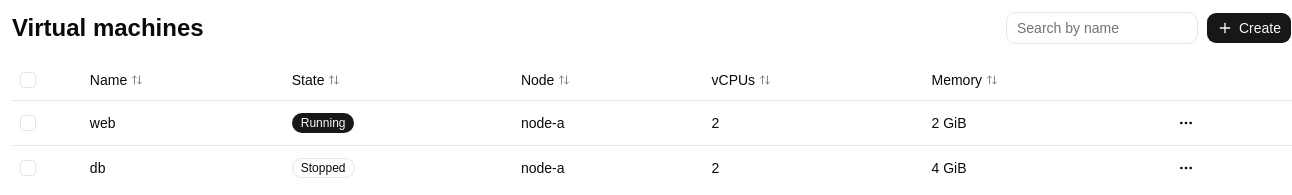
Test case: lists, searches and sorts VMs
The width and height of the screenshot is (1292, 195).
Expected: the link "web" is shown, [90, 114, 116, 130]
Expected: the row "db" shows "Stopped", [301, 161, 346, 175]
Click the button "Name" at (117, 80), box [90, 70, 143, 90]
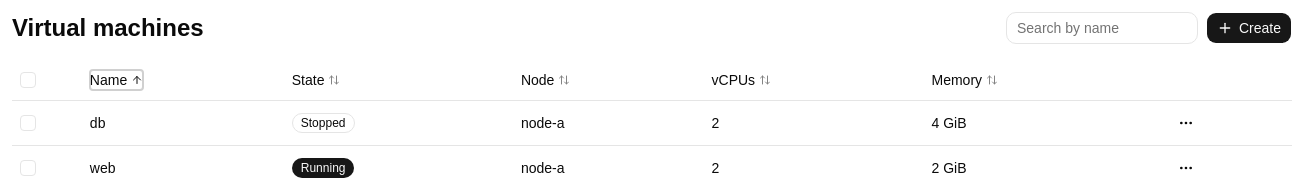
Type "we" into the field labelled "Search by name" at (1102, 28), box [1006, 12, 1198, 44]
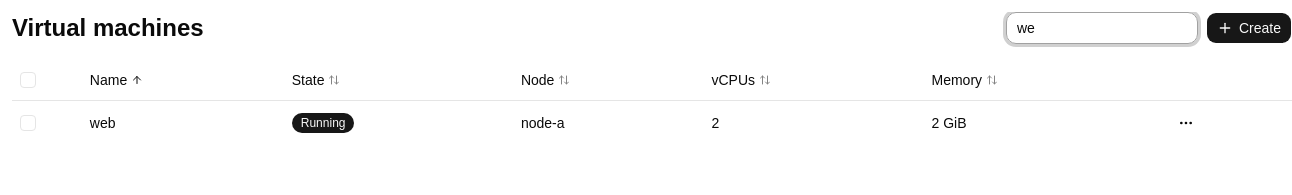
Expected: the link "db" is gone
